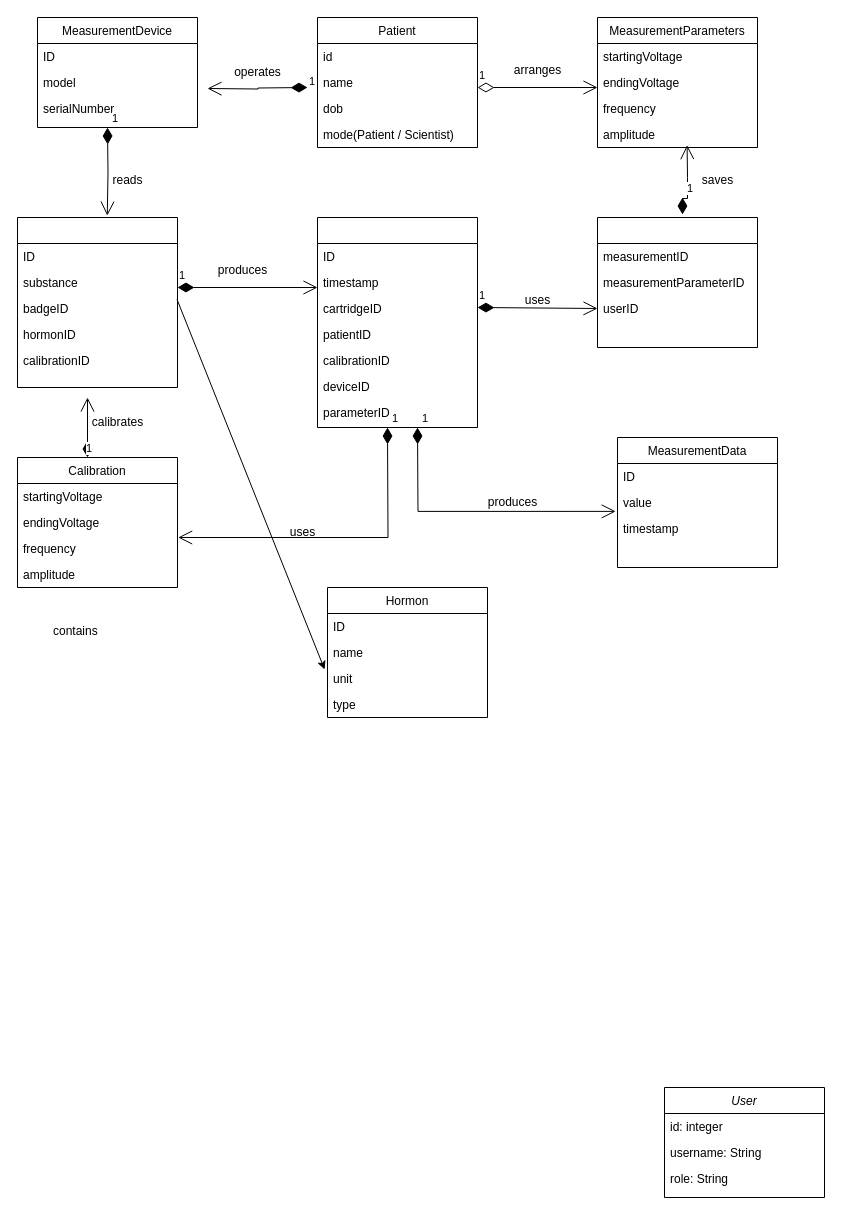
Image size: 842x1215. Some labels were removed from this diagram. The shapes that lost their labels are listed below. From the top down, each one's box as (x1, y1, x2, y2) in pixels, then its label:
(16, 216, 178, 388): Cartridge
(596, 216, 758, 348): MeasurementSettings
(316, 216, 478, 428): Measurement
